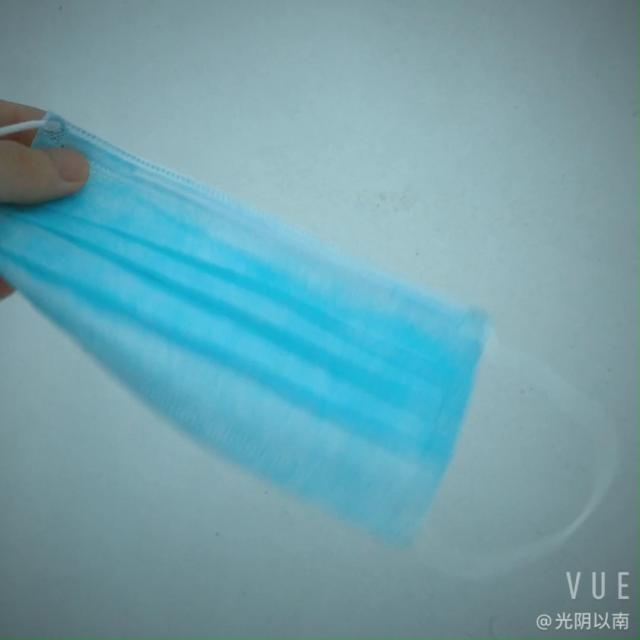face mask: (2, 144, 490, 564)
